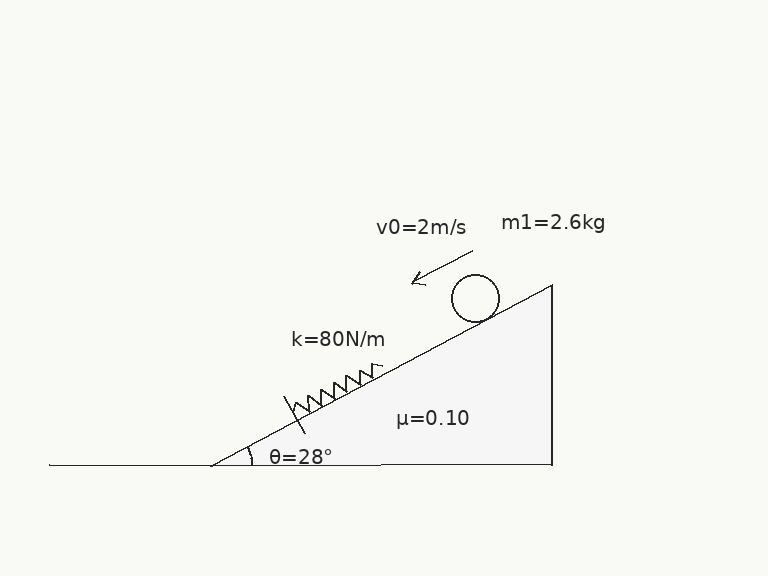ball: (449, 272, 501, 324)
ramp: (210, 282, 554, 467)
spring: (291, 360, 383, 414)
